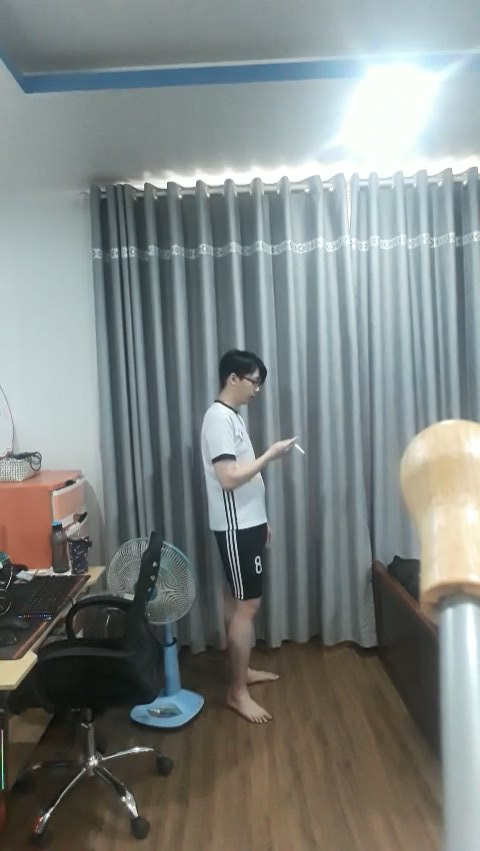cigarette: (295, 443, 307, 456)
person: (190, 333, 302, 733)
